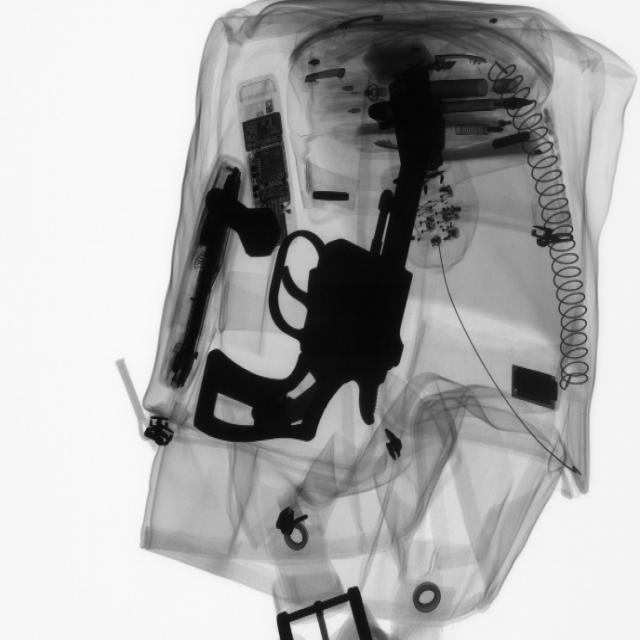GUN: (189, 141, 432, 449)
